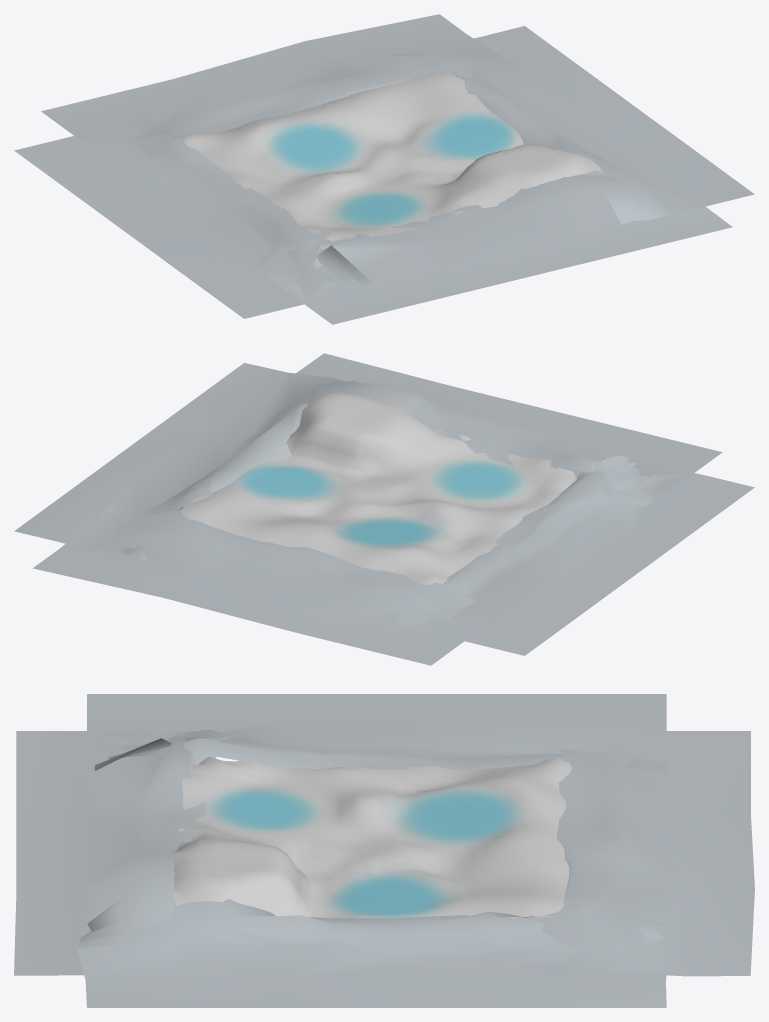
Rendered from terrain-opti2.glb.
3 views of the same model, one above another, from view 1: azimuth 30°, elevation 25°; view 2: azimuth 150°, elevation 25°; view 3: azimuth 270°, elevation 25° (orthographic). The views are drawn at different scales.
Visible parts, largest first — view 1: Plan, ground.col; view 2: Plan, ground.col; view 3: Plan, ground.col.
Part boxes in pixels (x1,y1,x2,y2): Plan: [14, 14, 754, 324]; ground.col: [180, 72, 602, 241]; Plan: [14, 353, 754, 665]; ground.col: [181, 389, 576, 584]; Plan: [14, 694, 754, 1007]; ground.col: [172, 756, 571, 918].
Bounding box in the file's own units: 38.43 × 2.58 × 38.34.
Materials: 2 (1 with a texture image).
